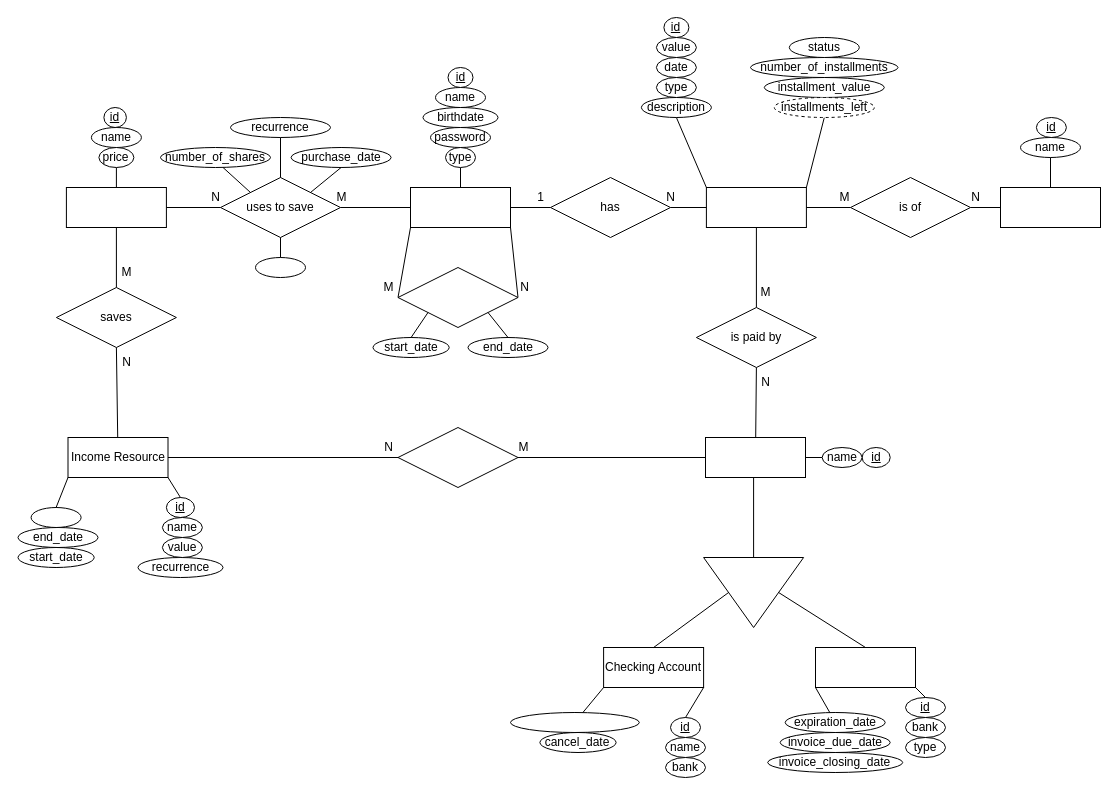
Image size: 1118x795. Some labels were removed from this diagram. Each missing label, with the centre of its shape:
Category: the point at 1050,207
Credit Card: the point at 865,667
depends on: the point at 457,297
Expense: the point at 755,207
Financial Product: the point at 115,207
is: the point at 753,592
is financed by: the point at 457,457
payday: the point at 55,517
Payment Method: the point at 755,457
reason: the point at 280,267
registration_date: the point at 574,722
User: the point at 460,207
